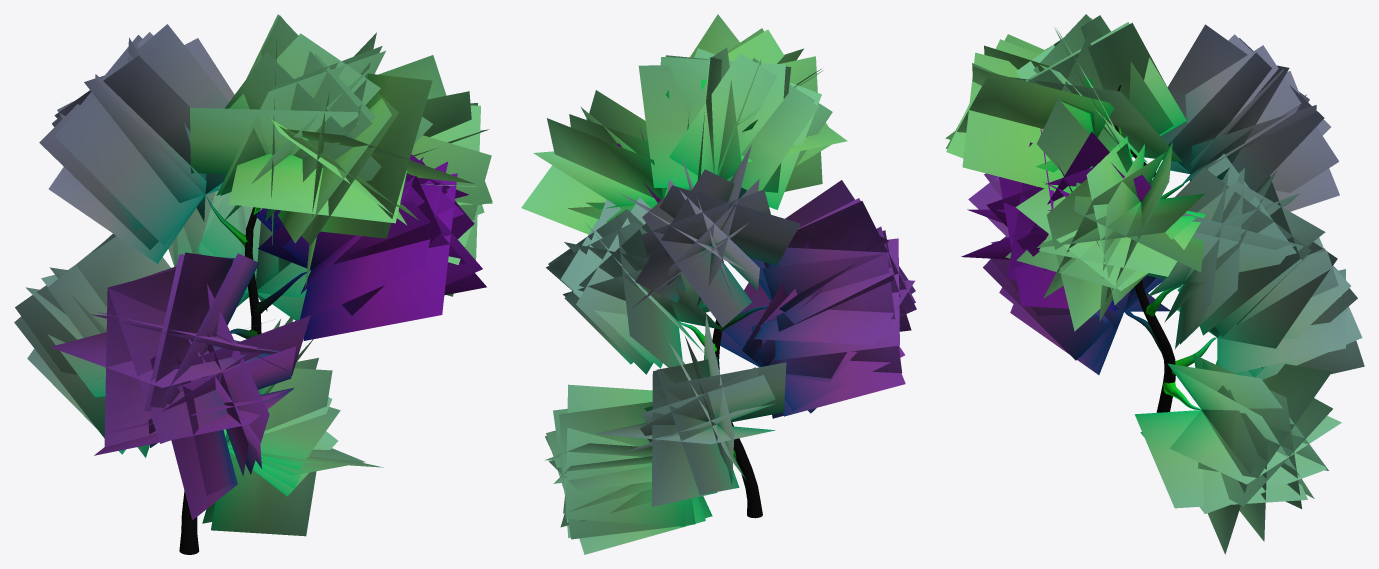
File: URP_P6_Tree_4_LOD_1.fbx
3 renders of one model, left to right at view 1: azimuth 30°, elevation 25°; view 2: azimuth 150°, elevation 25°; view 3: azimuth 270°, elevation 25°, orthographic. The views are drawn at different scales.
Visible parts, largest first — view 1: Tree_4_LOD_1; view 2: Tree_4_LOD_1; view 3: Tree_4_LOD_1.
Part boxes in pixels (box(x1,y1,x2,y2)): Tree_4_LOD_1: box(14, 14, 492, 554); Tree_4_LOD_1: box(521, 14, 916, 554); Tree_4_LOD_1: box(945, 14, 1364, 554).
Size of the model in its own units: 467 by 621 by 474.
